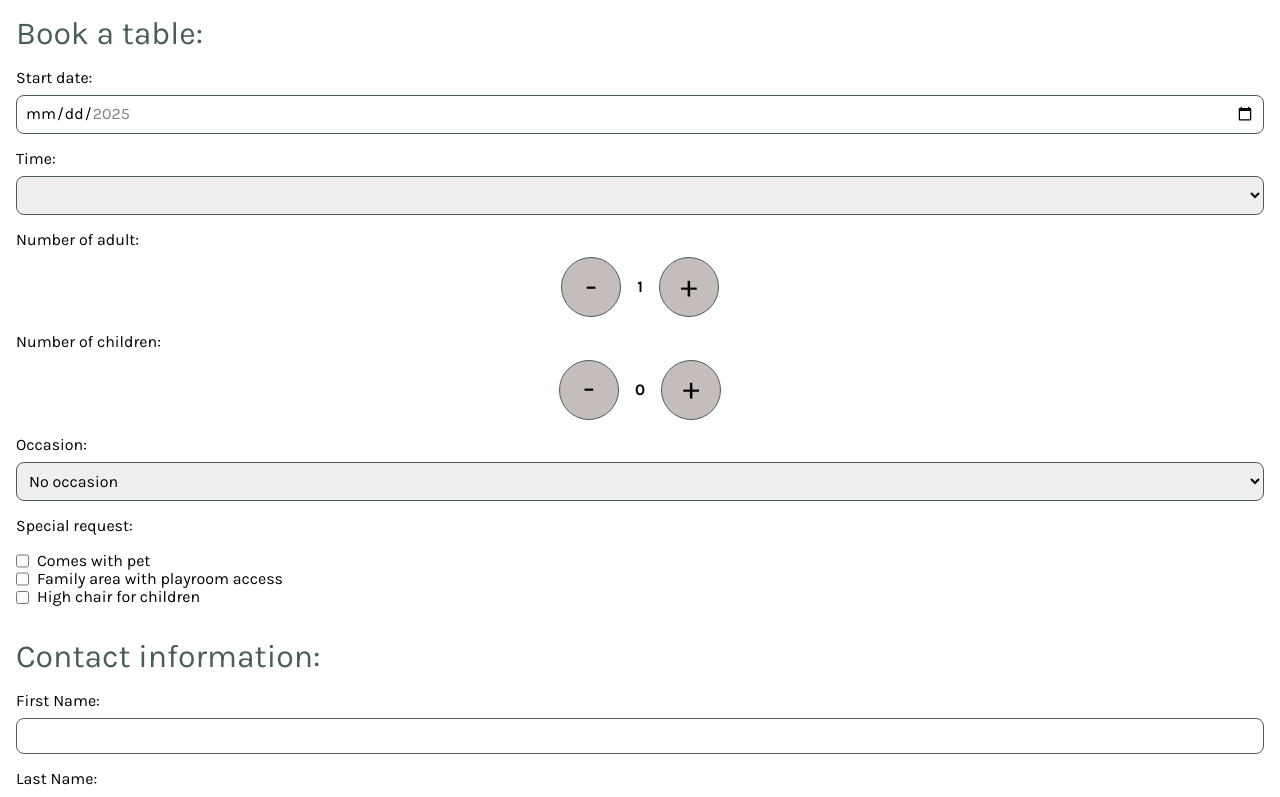
Test case: Reservation form increase and decrease buttons › should increase countAdults by 1 when clicking "Increase" button for adults
Click the button with test id "increase_adult". click: (689, 287)
box: [659, 257, 719, 317]
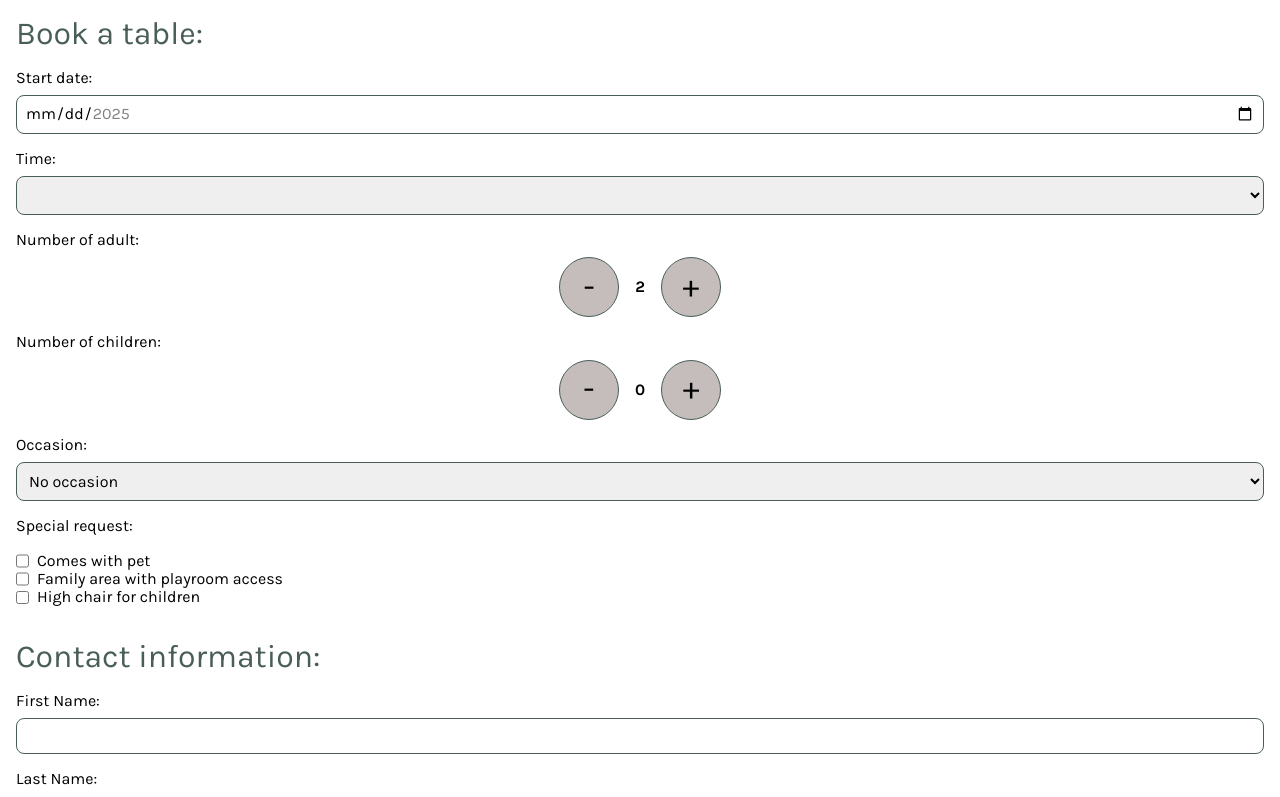
Result: the text with test id "result_adult" reads "2" at [635, 277, 645, 296]
